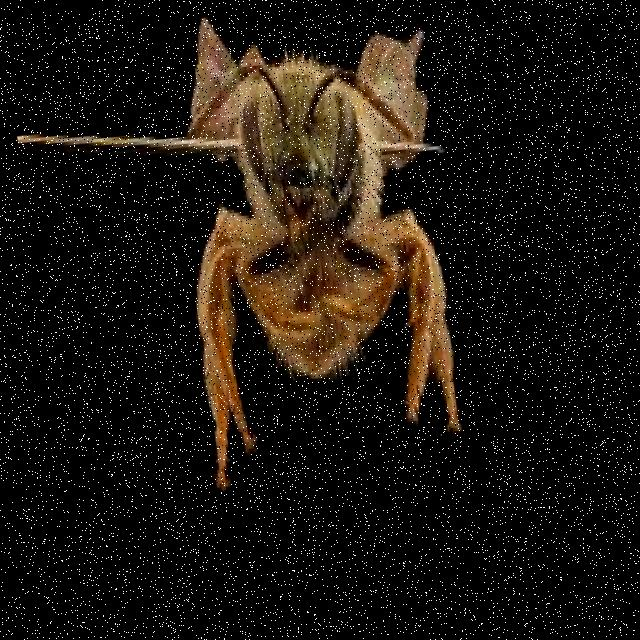Seladonia: (100, 0, 505, 494)
